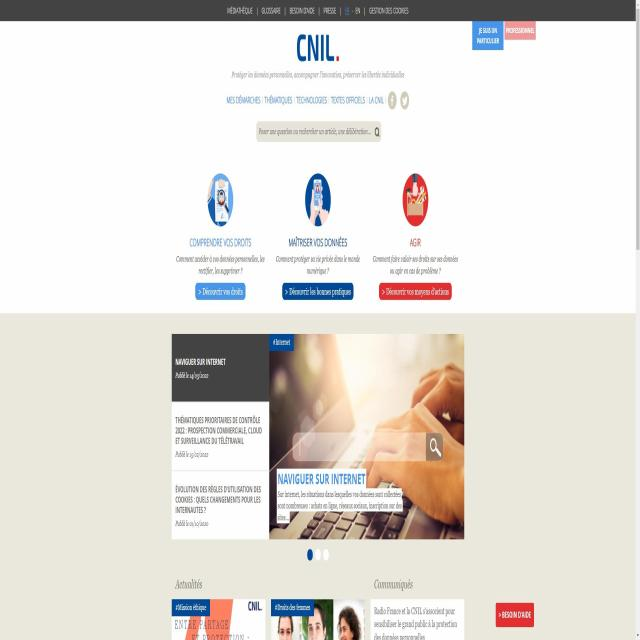button: (283, 283, 353, 301), (379, 283, 452, 300), (496, 603, 535, 628), (472, 22, 503, 49), (196, 284, 245, 300), (505, 22, 536, 39)
input: (256, 122, 381, 142)
